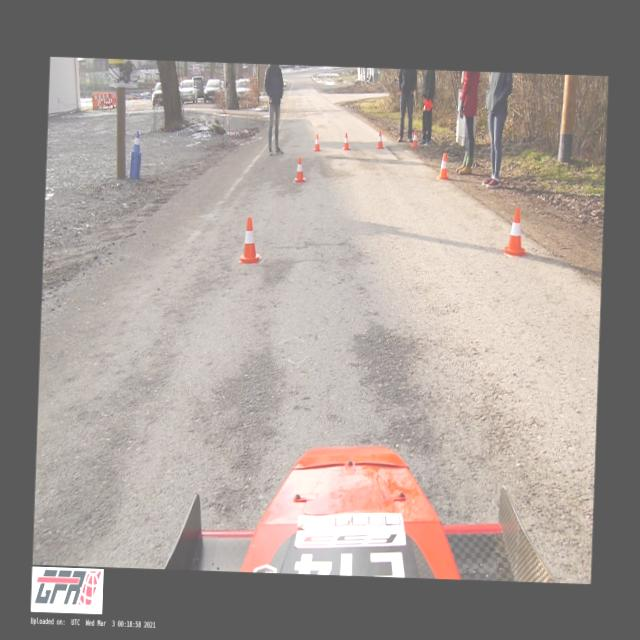blue_cone: (132, 130, 141, 152)
orange_cone: (239, 216, 262, 262), (504, 207, 526, 255), (294, 156, 306, 180), (438, 152, 448, 179), (342, 132, 350, 150), (376, 130, 384, 148), (312, 134, 320, 150), (411, 129, 418, 147)
